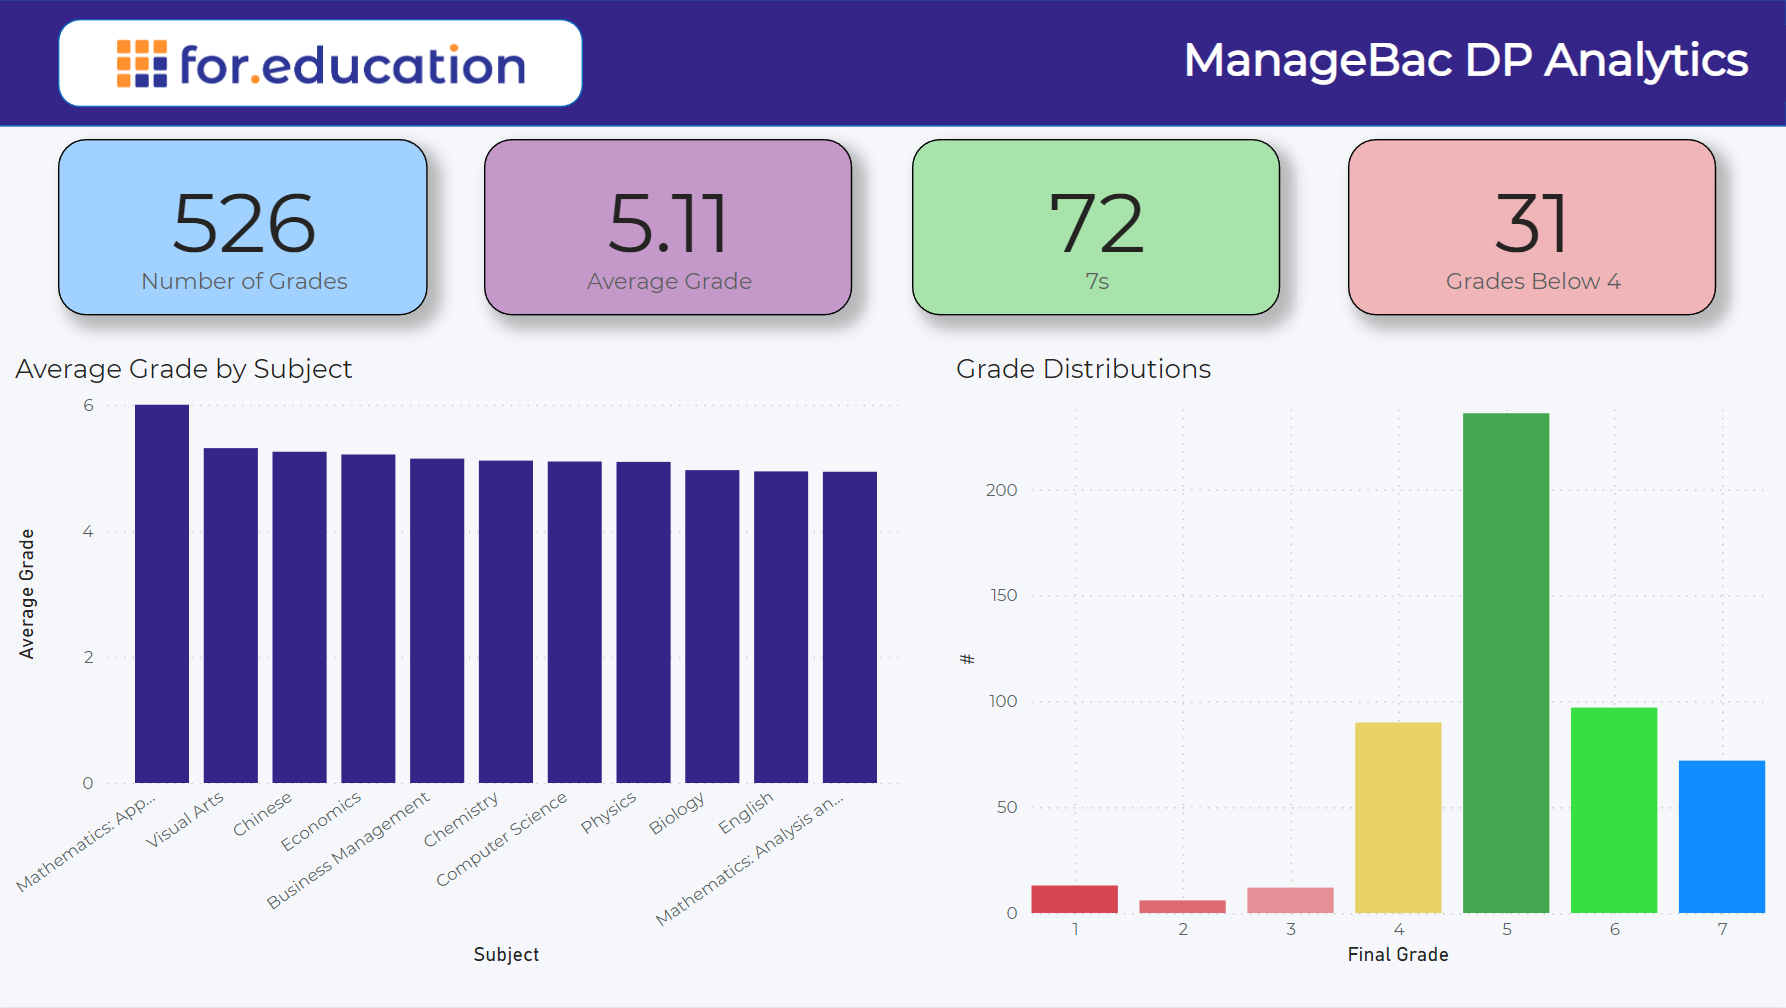

What the dashboard file says about the page in this screenshot:
{"tool":"powerbi","page":{"name":"Grade Distribution","canvas":[1280,720],"ordinal":0},"visuals":[{"type":"clusteredColumnChart","title":"Average Grade by Subject","fields":{"Category":["diploma_term_grades.subject"],"Y":["Avg(diploma_term_grades.correct_final_grade)"]},"box":[9.2,252.8,645.7,442.4],"z":0},{"type":"clusteredColumnChart","title":"Grade Distributions","fields":{"Y":["CountNonNull(diploma_term_grades.correct_final_grade)"],"Category":["diploma_term_grades.correct_final_grade"]},"box":[681.4,252.8,588.3,442.4],"z":1000},{"type":"shape","box":[0,0,1280,90.8],"z":2000},{"type":"shape","box":[44.9,14,375.4,62.9],"z":3000},{"type":"image","box":[81.9,22,300.5,46.9],"z":4000},{"type":"textbox","box":[843.4,18.4,436.6,55.2],"z":5000},{"type":"card","fields":{"Values":["CountNonNull(diploma_term_grades.correct_final_grade)"]},"box":[44.8,100,264.3,126.4],"z":6000},{"type":"card","fields":{"Values":["Avg(diploma_term_grades.correct_final_grade)"]},"box":[349.3,100,263.1,126.4],"z":7000},{"type":"card","fields":{"Values":["CountNonNull(diploma_term_grades.correct_final_grade)"]},"box":[966.3,100,263.1,126.4],"z":8000},{"type":"card","fields":{"Values":["CountNonNull(diploma_term_grades.correct_final_grade)"]},"box":[654.9,100,263.1,126.4],"z":9000}]}

Visuals, with their boxes in screenshot pixels (x1, y1, x2, y2), scaled from the page's 1280x720 canvas onto the 1786x1008 screenshot:
"Average Grade by Subject" clusteredColumnChart: region(13, 354, 914, 973)
"Grade Distributions" clusteredColumnChart: region(951, 354, 1772, 973)
shape: region(0, 0, 1785, 127)
shape: region(63, 20, 586, 108)
image: region(114, 31, 534, 96)
textbox: region(1177, 26, 1785, 103)
card - CountNonNull(diploma_term_grades.correct_final_grade): region(63, 140, 431, 317)
card - Avg(diploma_term_grades.correct_final_grade): region(487, 140, 854, 317)
card - CountNonNull(diploma_term_grades.correct_final_grade): region(1348, 140, 1715, 317)
card - CountNonNull(diploma_term_grades.correct_final_grade): region(914, 140, 1281, 317)
